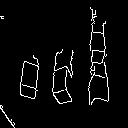cube: (9, 48, 43, 108), (47, 58, 77, 112), (77, 27, 116, 63), (83, 70, 115, 109)
